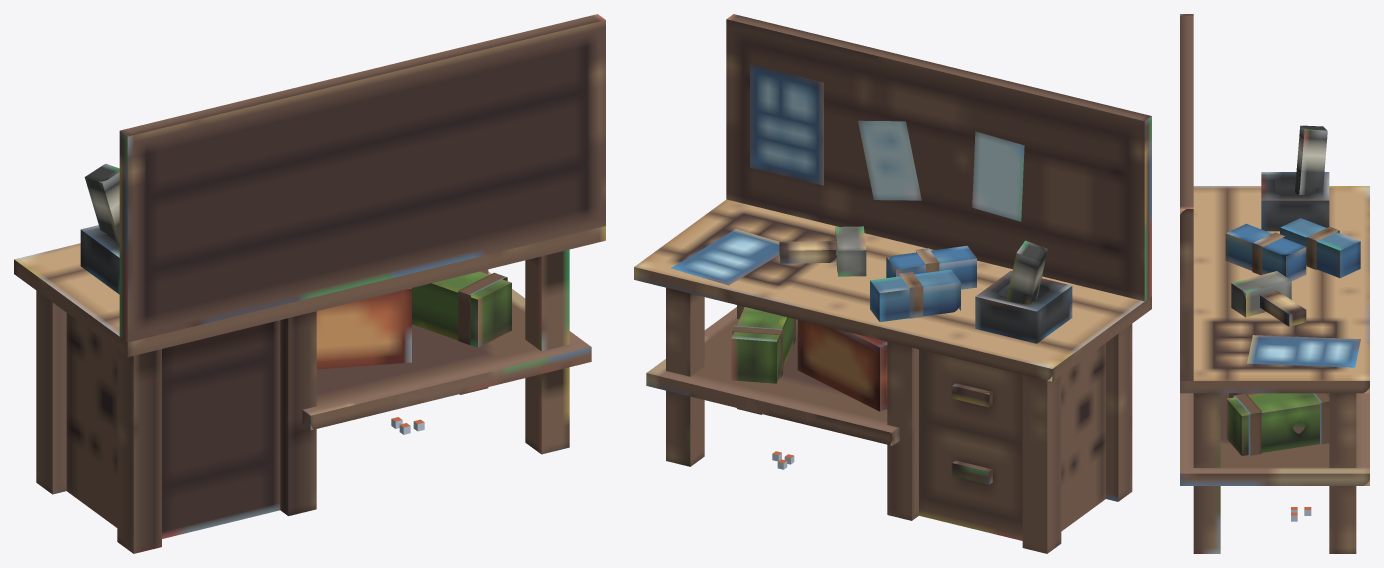
3 renders of one model, left to right at view 1: azimuth 30°, elevation 25°; view 2: azimuth 150°, elevation 25°; view 3: azimuth 270°, elevation 25°, orthographic. The views are drawn at different scales.
Parts seen in each view (by area): view 1: cube.009, cube, cube.005, cube.008, cube.003, cube.007, cube.004, cube.026, cube.002, cube.022, cube.031, cube.032; view 2: cube.009, cube.008, cube, cube.005, cube.011, cube.002, cube.006, cube.026, cube.001, cube.031, cube.003, cube.033 (+10 smaller); view 3: cube.008, cube.005, cube.009, cube.022, cube.006, cube.007, cube.030, cube.031, cube.014, cube.018, cube.032, cube.012 (+6 smaller).
Part boxes in pixels (x1,y1,x2,y2): cube.009: (119,14,605,342); cube: (66,313,280,538); cube.005: (302,271,591,430); cube.008: (14,226,605,357); cube.003: (117,349,161,553); cube.007: (525,249,569,454); cube.004: (280,311,316,515); cube.026: (316,288,411,369); cube.002: (36,290,66,494); cube.022: (411,271,511,347); cube.031: (80,225,119,294); cube.032: (84,163,119,243); cube.009: (726,14,1151,301); cube.008: (634,199,1151,381); cube: (919,343,1105,540); cube.005: (646,307,899,445); cube.011: (750,64,823,185); cube.002: (1022,375,1061,553); cube.006: (666,287,704,466); cube.026: (797,320,887,411); cube.001: (887,341,918,520); cube.031: (975,270,1072,343); cube.003: (1106,324,1132,501); cube.033: (972,131,1024,221); cube.008: (1180,186,1369,393); cube.005: (1180,393,1369,485); cube.009: (1180,14,1193,380); cube.022: (1226,393,1329,455); cube.006: (1329,393,1356,553); cube.007: (1193,393,1220,553); cube.030: (1247,335,1360,367); cube.031: (1261,172,1329,231); cube.014: (1225,223,1306,280); cube.018: (1280,218,1360,278); cube.032: (1295,125,1327,194); cube.012: (1231,271,1291,317).
Size of the model in its own units: 213 by 183 by 87.5.
2 materials, 2 textured.
